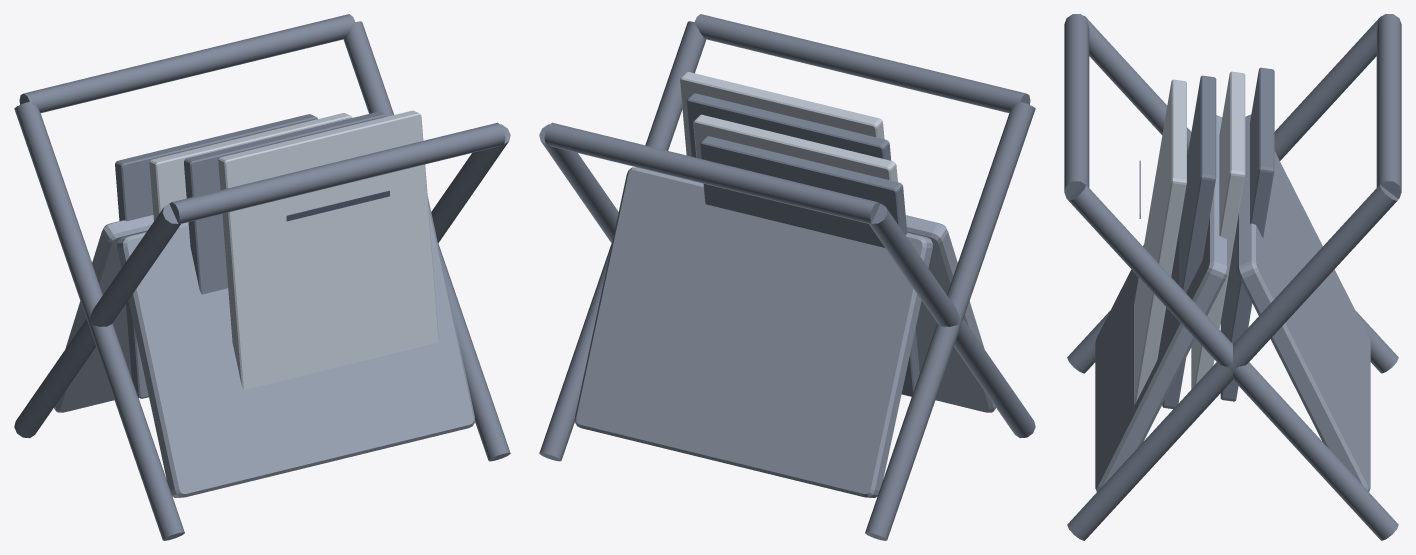
The model's file is magazine-rack-lite.glb.
The picture shows the model from 3 angles, left to right: view 1: azimuth 30°, elevation 25°; view 2: azimuth 150°, elevation 25°; view 3: azimuth 270°, elevation 25°; orthographic projection. The views are drawn at different scales.
Parts seen in each view (by area): view 1: soft, light, body, accent, dark; view 2: soft, body, accent, light; view 3: body, soft, light, accent.
Boxes of the visible parts, left/top/right/bottom form: soft: left=54, top=196, right=475, bottom=497; light: left=149, top=110, right=438, bottom=389; body: left=14, top=14, right=510, bottom=540; accent: left=115, top=112, right=386, bottom=398; dark: left=286, top=190, right=389, bottom=221; soft: left=574, top=167, right=995, bottom=497; body: left=539, top=14, right=1035, bottom=540; accent: left=686, top=93, right=919, bottom=396; light: left=680, top=71, right=897, bottom=182; body: left=1064, top=14, right=1401, bottom=540; soft: left=1095, top=114, right=1370, bottom=491; light: left=1134, top=71, right=1245, bottom=405; accent: left=1162, top=67, right=1274, bottom=408.
Bounding box in the file's own units: 0.4028 × 0.3791 × 0.324.
